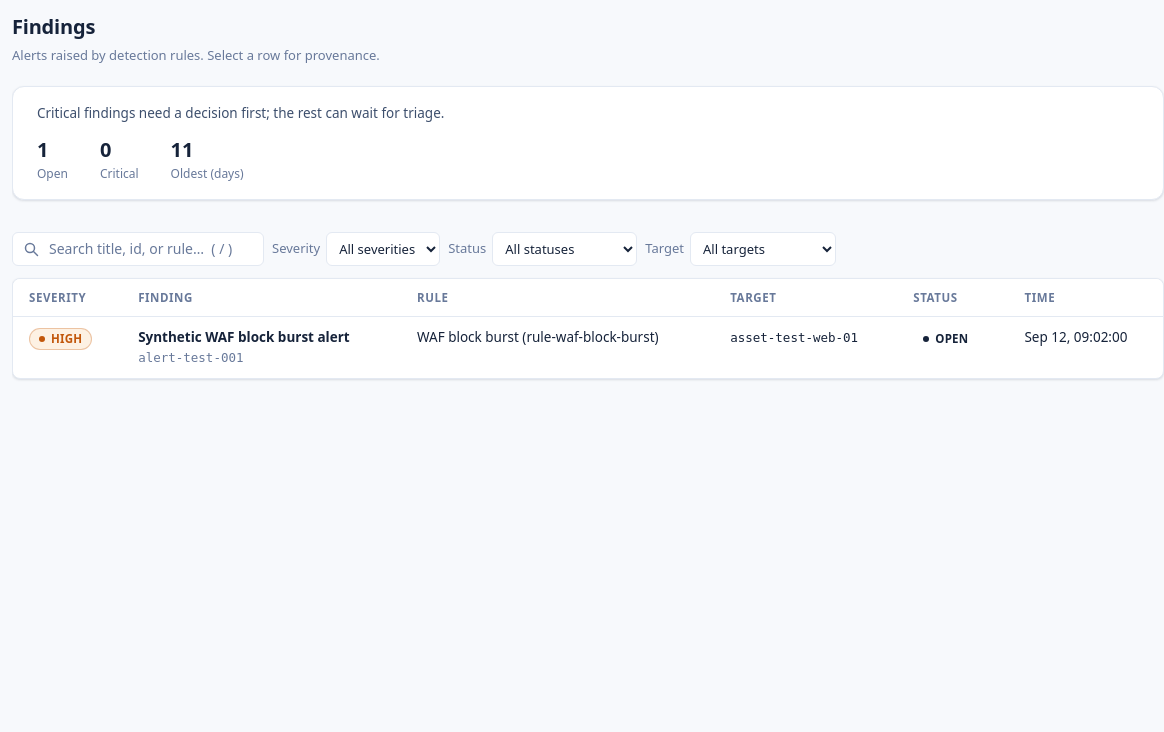
Test: Findings › shows no-results copy for filters that match nothing
Type "zzz-no-such-finding" into the field named "Search findings".
click(150, 249); type("zzz-no-such-finding")  # box [47,237,253,260]
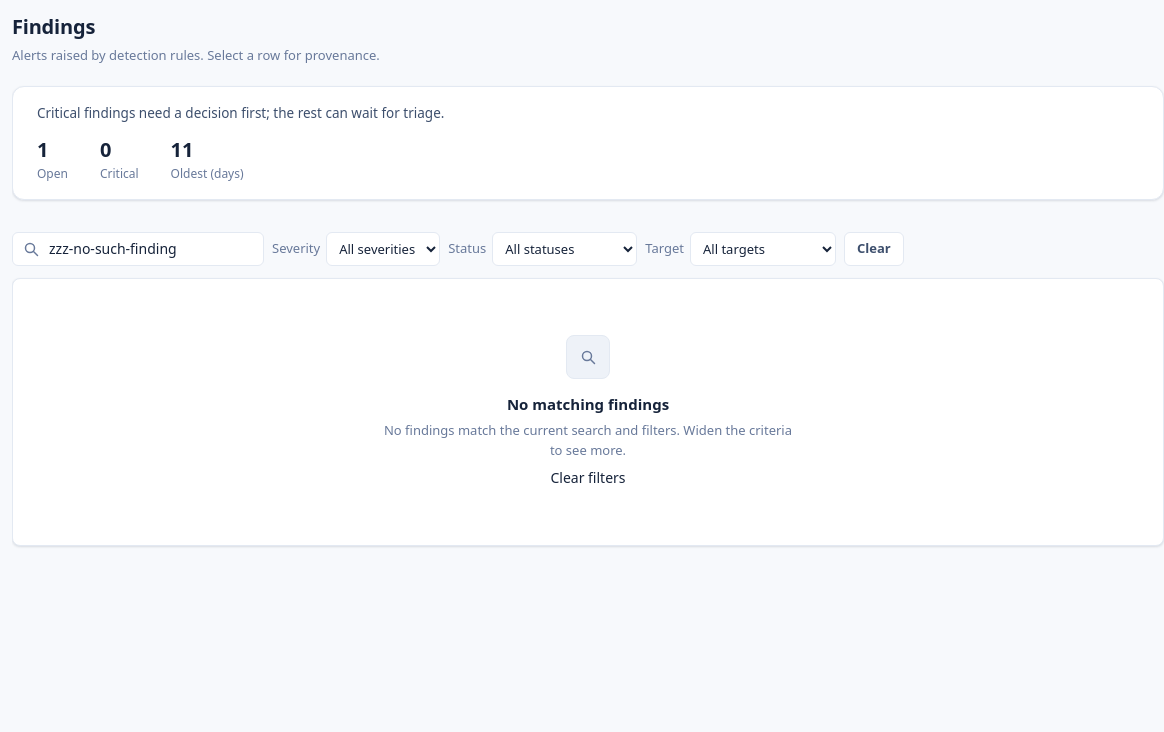
Expected: the heading "No matching findings" is shown, [507,393,669,415]
